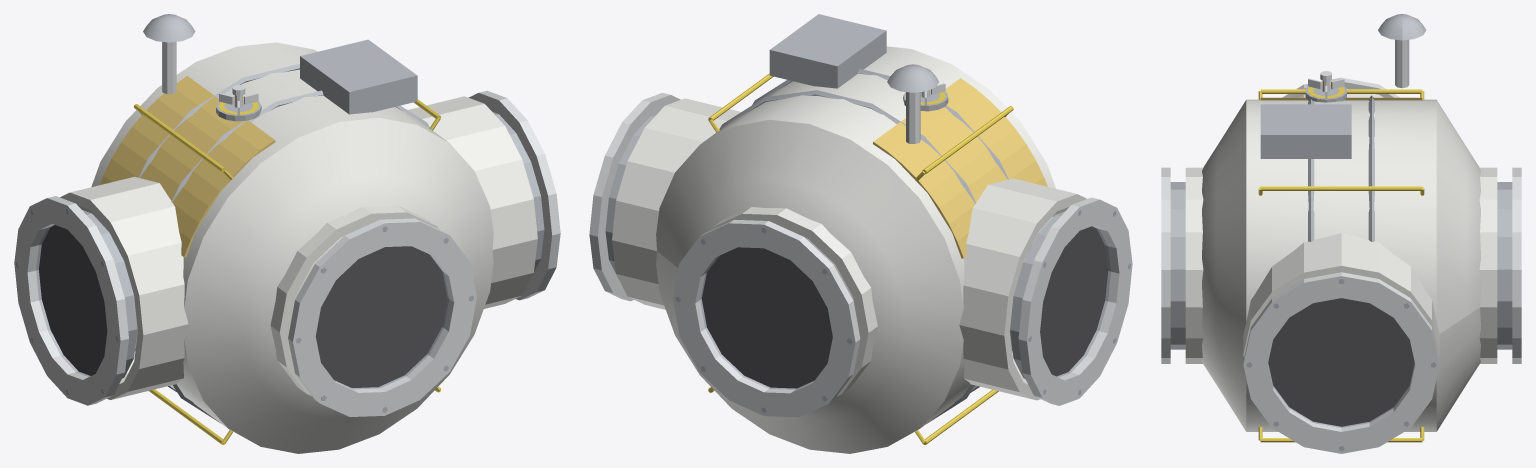
The model's file is orbital-station-and-docking-bays-node-four-port-da8b87cc__24526.glb.
3 renders of one model, left to right at view 1: azimuth 30°, elevation 25°; view 2: azimuth 150°, elevation 25°; view 3: azimuth 270°, elevation 25°, orthographic. The views are drawn at different scales.
Parts seen in each view (by area): view 1: node-four-port; view 2: node-four-port; view 3: node-four-port.
Boxes of the visible parts, x1,y1,x2,y2 form: node-four-port: (14, 14, 560, 453); node-four-port: (589, 14, 1132, 453); node-four-port: (1161, 14, 1521, 453).
Bounding box in the file's own units: 4.64 × 3.97 × 3.56.
